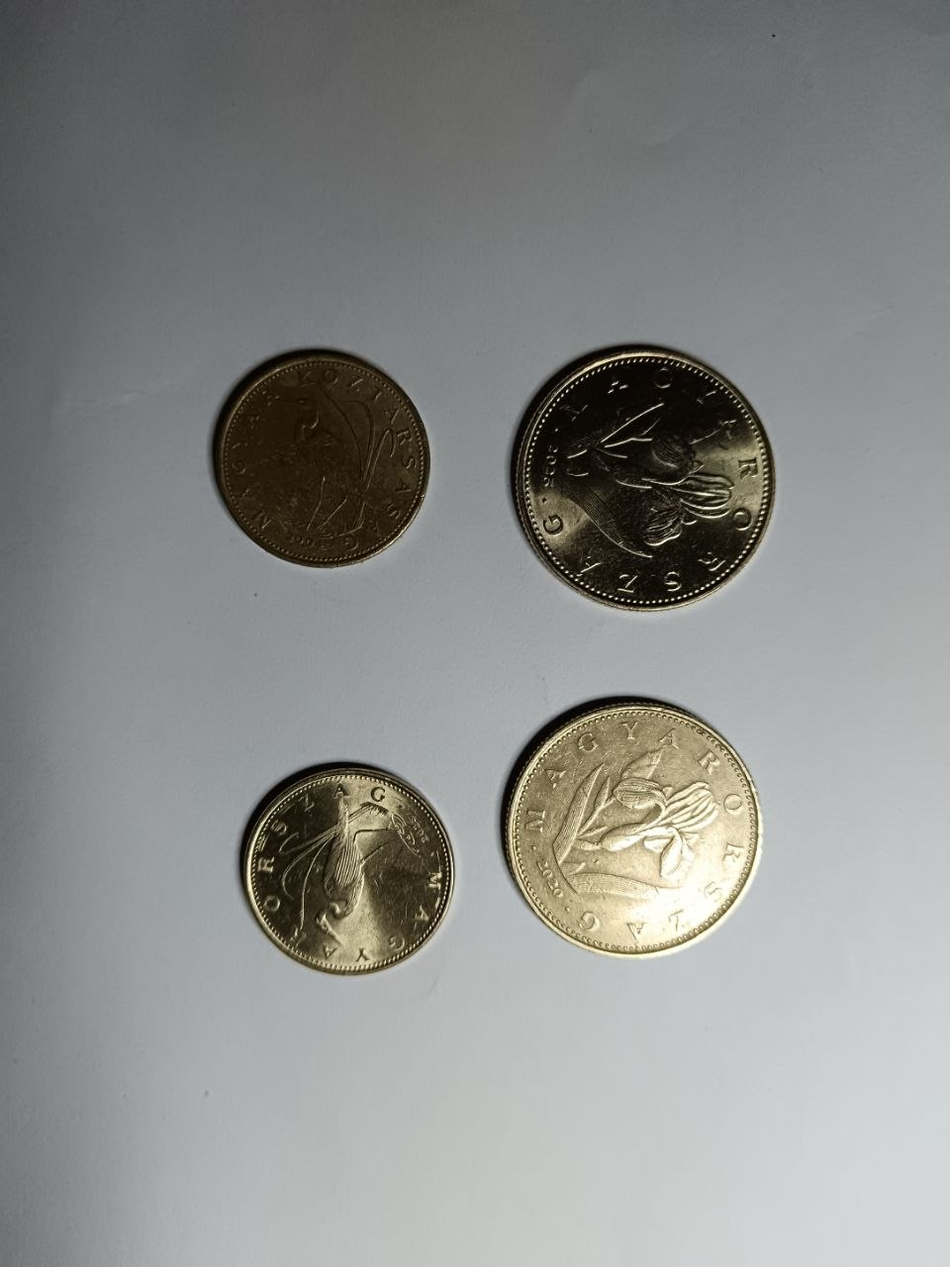20ft: (516, 348, 771, 609), (507, 702, 758, 952)
5ft: (217, 350, 428, 561), (245, 770, 450, 972)
